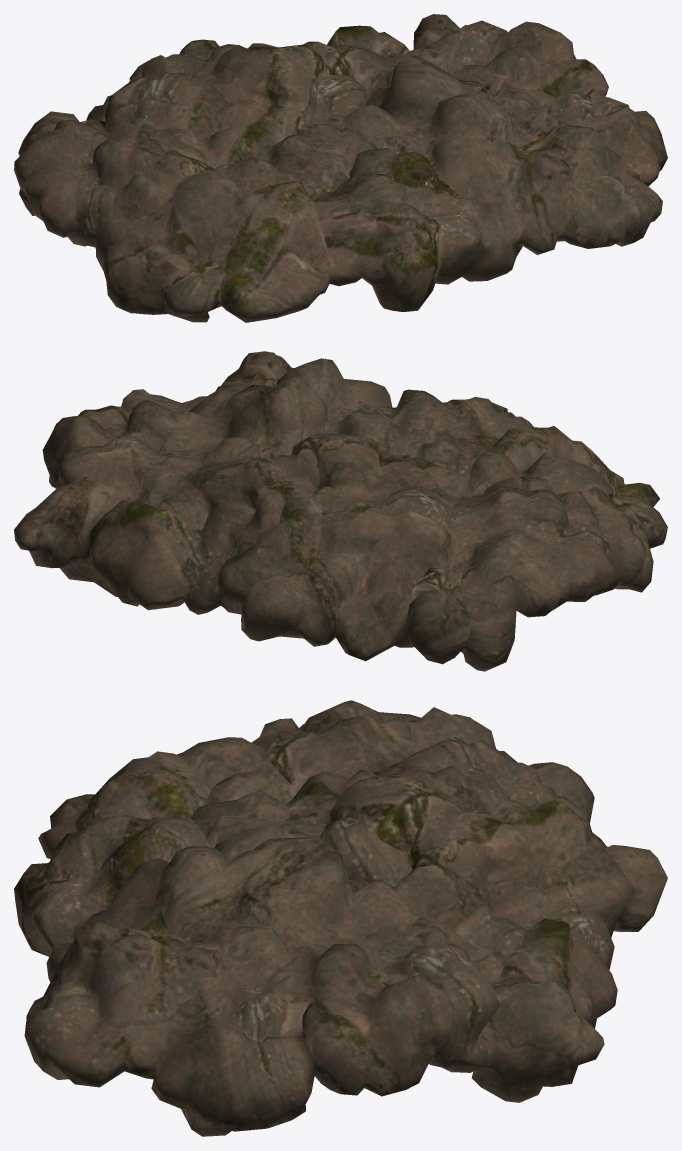
The model's file is Patches_04.fbx.
The picture shows the model from 3 angles, top to bottom: view 1: azimuth 30°, elevation 25°; view 2: azimuth 150°, elevation 25°; view 3: azimuth 270°, elevation 25°; orthographic projection. The views are drawn at different scales.
Parts seen in each view (by area): view 1: Patches_; view 2: Patches_; view 3: Patches_.
Boxes of the visible parts, x1=… form: Patches_: x1=14, y1=14, x2=667, y2=322; Patches_: x1=14, y1=351, x2=667, y2=671; Patches_: x1=14, y1=700, x2=667, y2=1136.
Bounding box in the file's own units: 58.19 × 15.53 × 46.73.
Materials: 1 (1 with a texture image).
